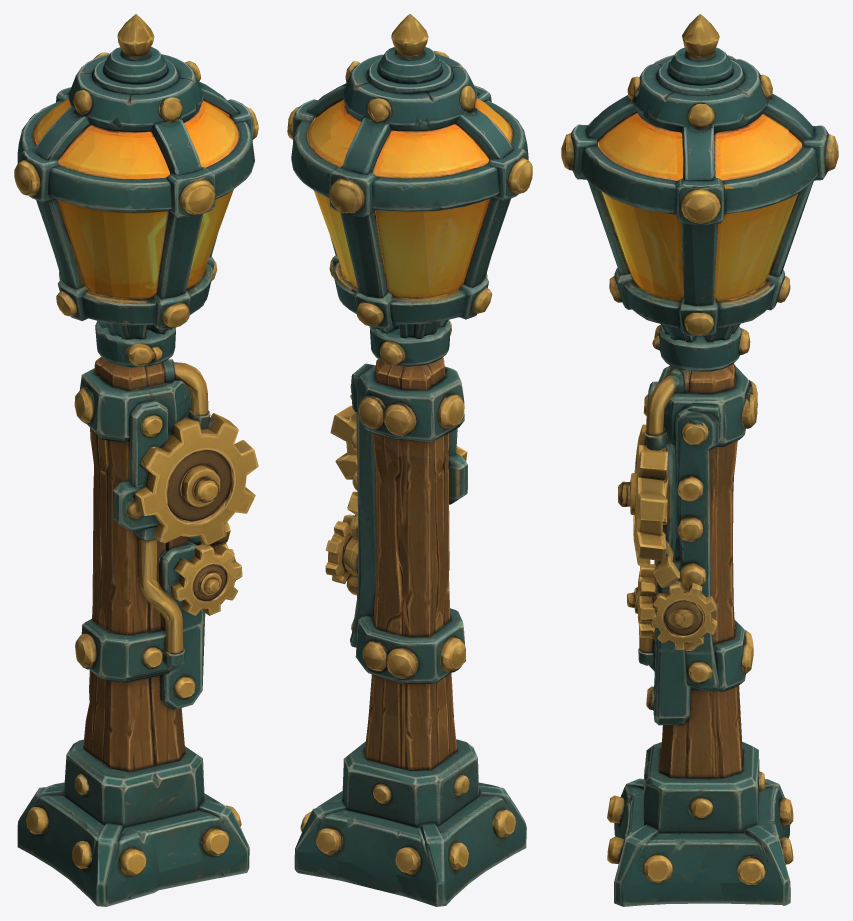
Rendered from shelter_lamppost.glb.
The picture shows the model from 3 angles, left to right: view 1: azimuth 30°, elevation 25°; view 2: azimuth 150°, elevation 25°; view 3: azimuth 270°, elevation 25°; orthographic projection.
Visible parts, largest first — view 1: output_unwrapped; view 2: output_unwrapped; view 3: output_unwrapped.
Part boxes in pixels (<box>): output_unwrapped: <box>14,14,258,906</box>; output_unwrapped: <box>287,14,532,906</box>; output_unwrapped: <box>561,14,838,906</box>.
Bounding box in the file's own units: 0.5559 × 1.9 × 0.5596.
1 material, 1 textured.
